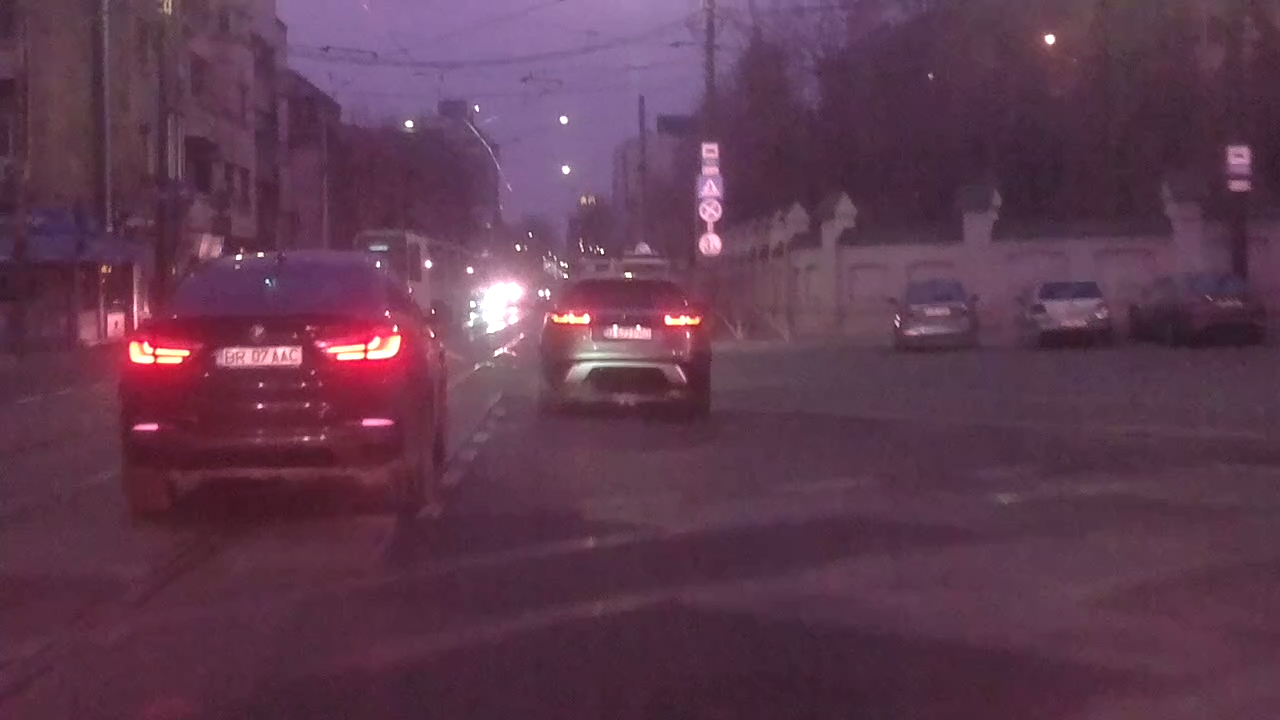license-plate: (212, 343, 305, 367)
